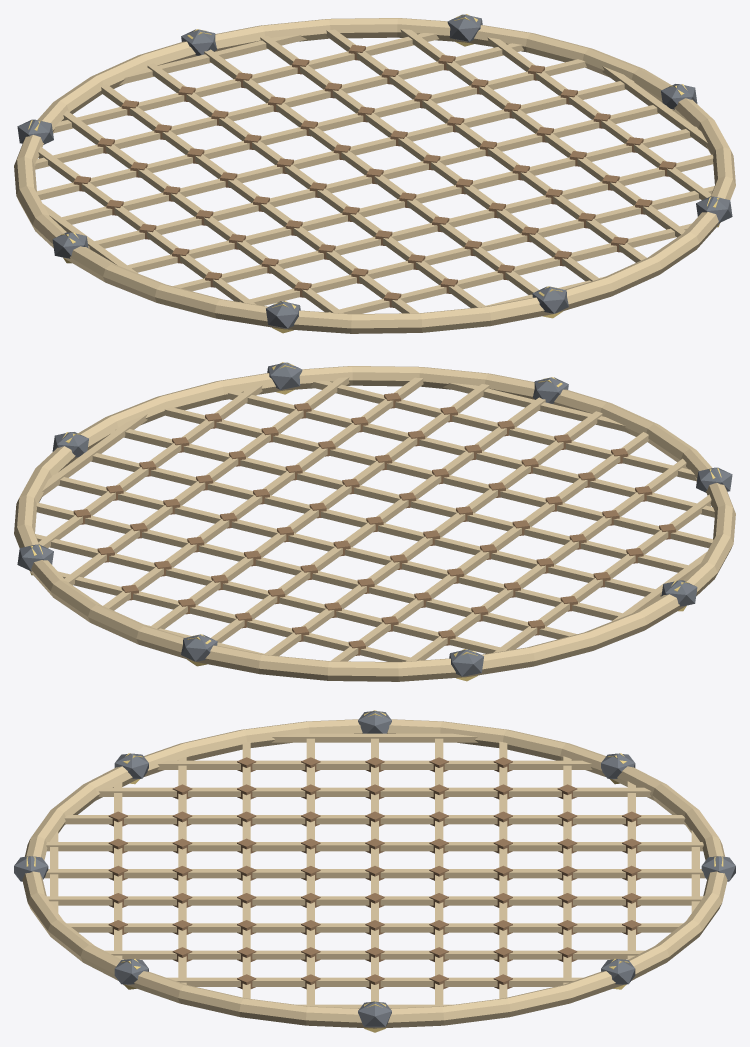
File: SM_Trap_Net.fbx
3 renders of one model, top to bottom at view 1: azimuth 30°, elevation 25°; view 2: azimuth 150°, elevation 25°; view 3: azimuth 270°, elevation 25°, orthographic. The views are drawn at different scales.
Parts seen in each view (by area): view 1: SM_Trap_Net; view 2: SM_Trap_Net; view 3: SM_Trap_Net.
Boxes of the visible parts, box(x1,y1,x2,y2) form: SM_Trap_Net: box(14, 14, 735, 333); SM_Trap_Net: box(14, 362, 735, 681); SM_Trap_Net: box(14, 710, 735, 1032).
Bounding box in the file's own units: 3.16 × 0.1414 × 3.15.
